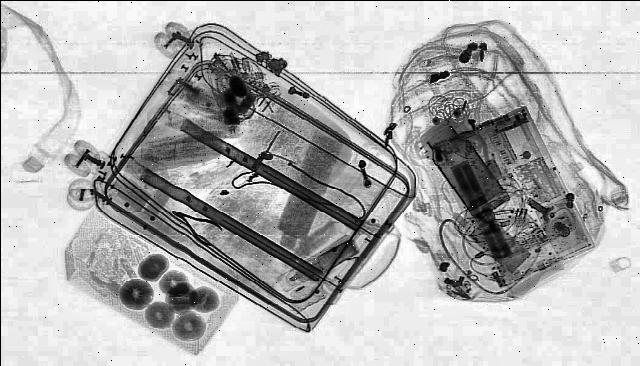Pliers: (165, 203, 235, 245)
